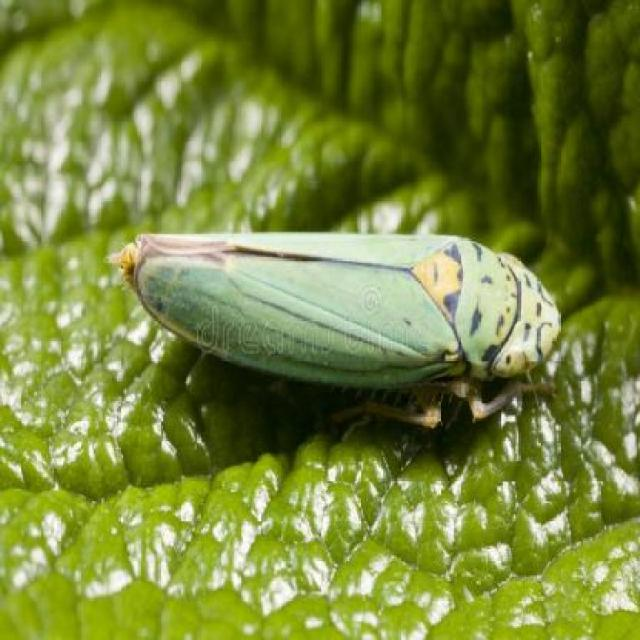green-leafhopper: (120, 226, 562, 422)
